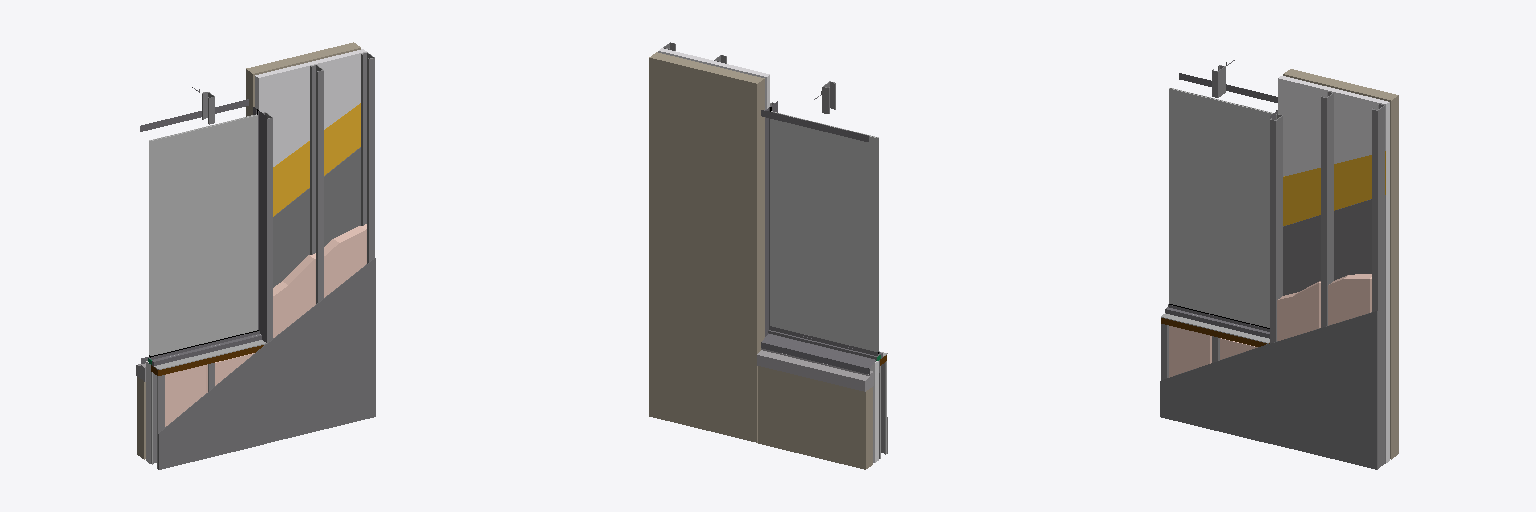
Rendered from WindowCutAway2.obj.
The picture shows the model from 3 angles: view 1: azimuth 30°, elevation 25°; view 2: azimuth 150°, elevation 25°; view 3: azimuth 330°, elevation 25°; orthographic projection.
Visible parts, largest first — view 1: WindowCutAway2; view 2: WindowCutAway2; view 3: WindowCutAway2.
Part boxes in pixels (bbox=[...]): WindowCutAway2: bbox=[136, 42, 375, 469]; WindowCutAway2: bbox=[649, 42, 887, 469]; WindowCutAway2: bbox=[1160, 60, 1398, 469].
Size of the model in its own units: 1.73 by 2.74 by 0.3065.